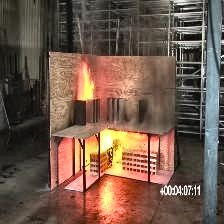fire: (86, 121, 143, 173), (73, 52, 109, 112)
